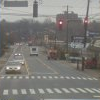crosswalk: (2, 87, 98, 95), (0, 75, 97, 79)
